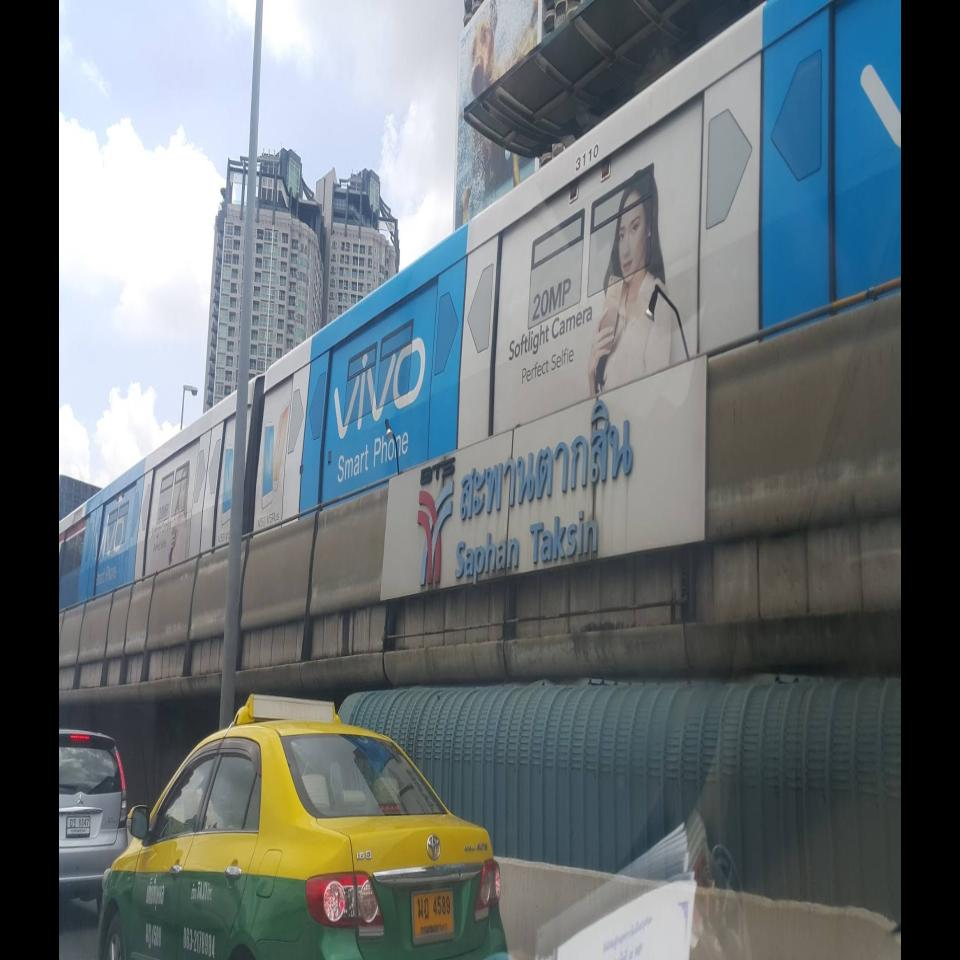signage: (417, 397, 635, 589), (454, 398, 634, 590)
